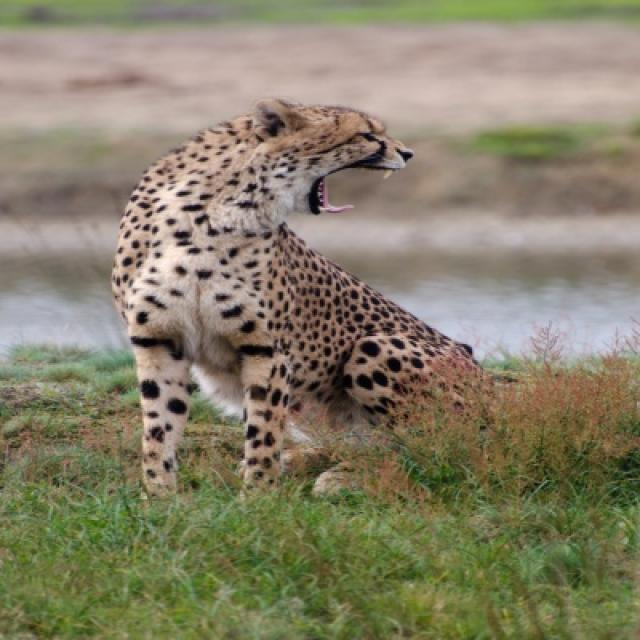Cheetah: (110, 98, 470, 499)
